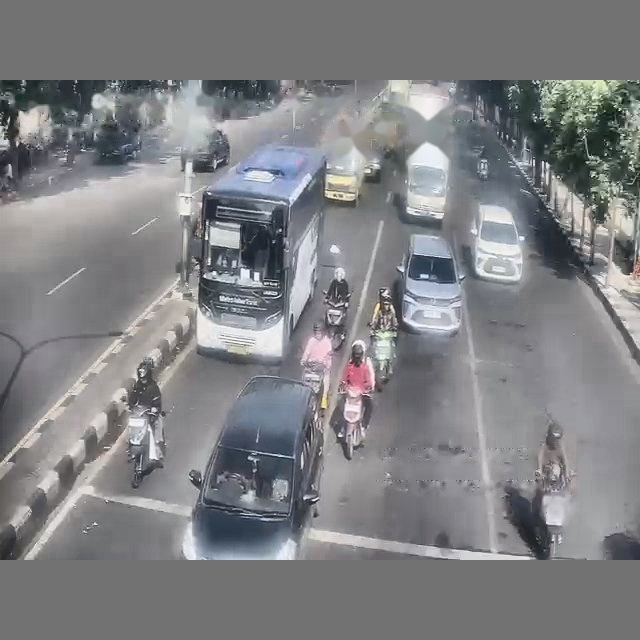Bis: (195, 144, 325, 361)
Mobil: (181, 375, 323, 559), (396, 234, 465, 336), (469, 204, 524, 282), (180, 129, 230, 170), (364, 142, 383, 182)
Motor: (536, 470, 570, 556), (127, 405, 160, 488), (340, 387, 363, 459), (323, 291, 350, 351), (372, 330, 395, 391), (302, 362, 328, 415), (477, 158, 488, 180)
